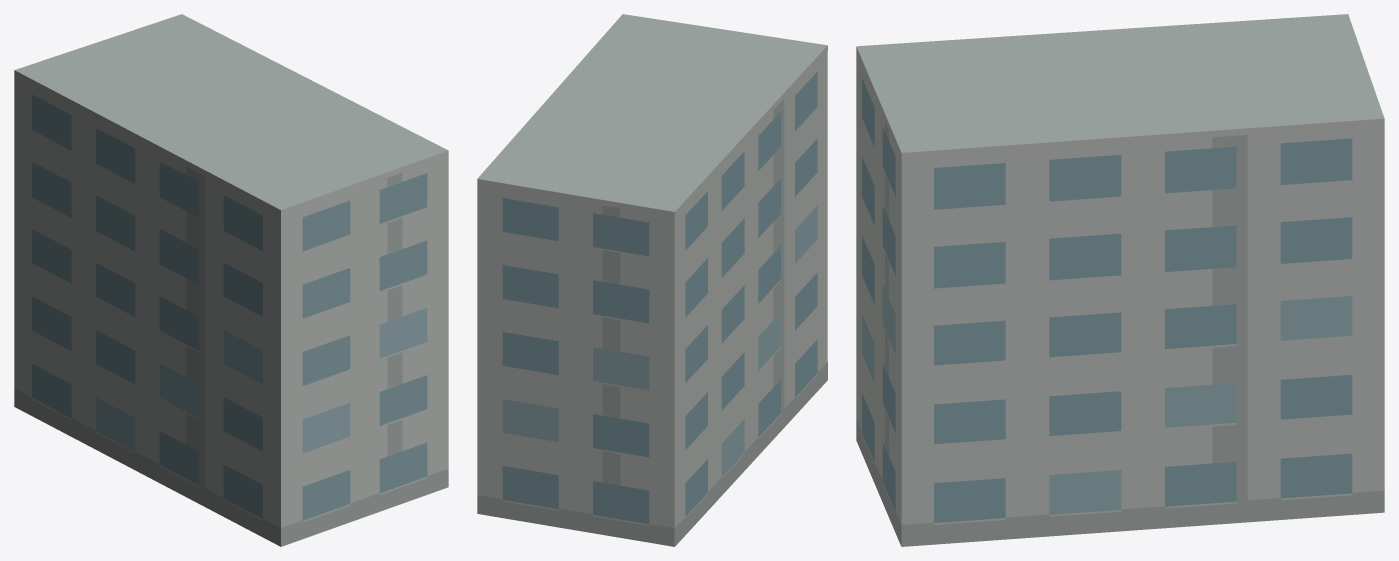
File: survey-upis-32576434.glb
The picture shows the model from 3 angles, left to right: view 1: azimuth 30°, elevation 25°; view 2: azimuth 150°, elevation 25°; view 3: azimuth 270°, elevation 25°; orthographic projection. The views are drawn at different scales.
Visible parts, largest first — view 1: survey-upis-32576434.tmp; view 2: survey-upis-32576434.tmp; view 3: survey-upis-32576434.tmp.
Part boxes in pixels (box(x1,y1,x2,y2)): survey-upis-32576434.tmp: box(14, 14, 448, 546); survey-upis-32576434.tmp: box(477, 14, 827, 546); survey-upis-32576434.tmp: box(856, 14, 1384, 546).
Size of the model in its own units: 11.05 by 14.6 by 17.75.
